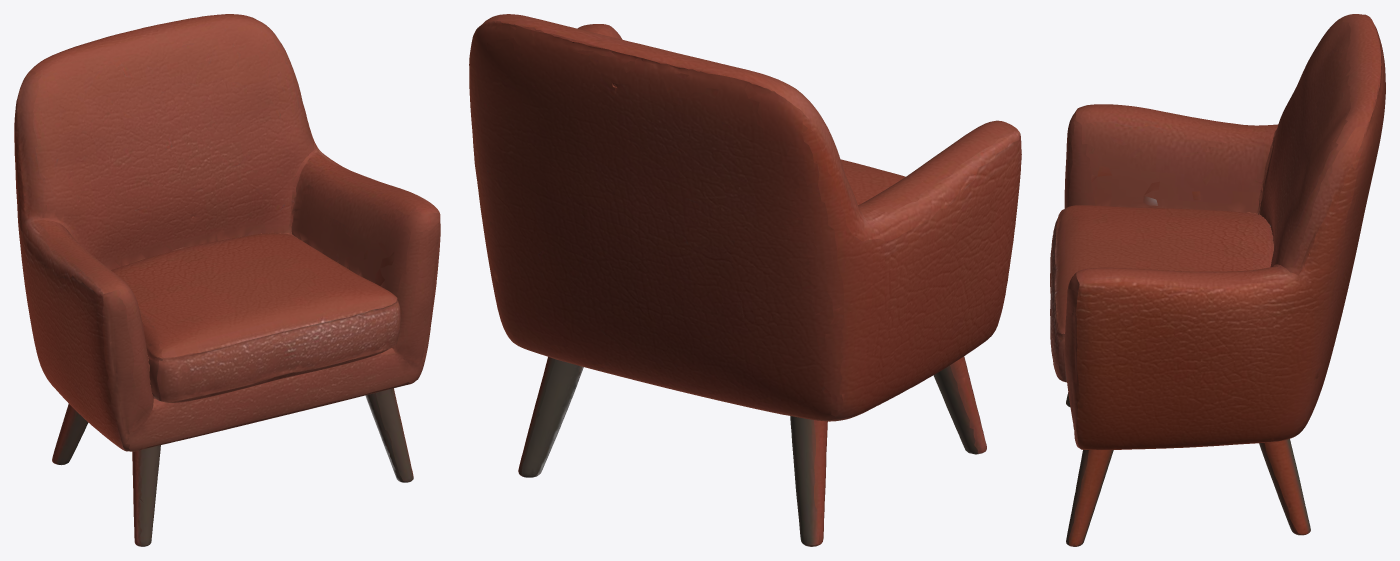
File: L_ARMCHAIR.industrial.glb
The picture shows the model from 3 angles, left to right: view 1: azimuth 30°, elevation 25°; view 2: azimuth 150°, elevation 25°; view 3: azimuth 270°, elevation 25°; orthographic projection. The views are drawn at different scales.
Visible parts, largest first — view 1: geometry_0; view 2: geometry_0; view 3: geometry_0.
Part boxes in pixels (x1,y1,x2,y2): geometry_0: (14,14,440,546); geometry_0: (469,14,1021,546); geometry_0: (1050,14,1385,546).
Size of the model in its own units: 0.7728 by 0.82 by 0.6055.
1 material, 1 textured.
